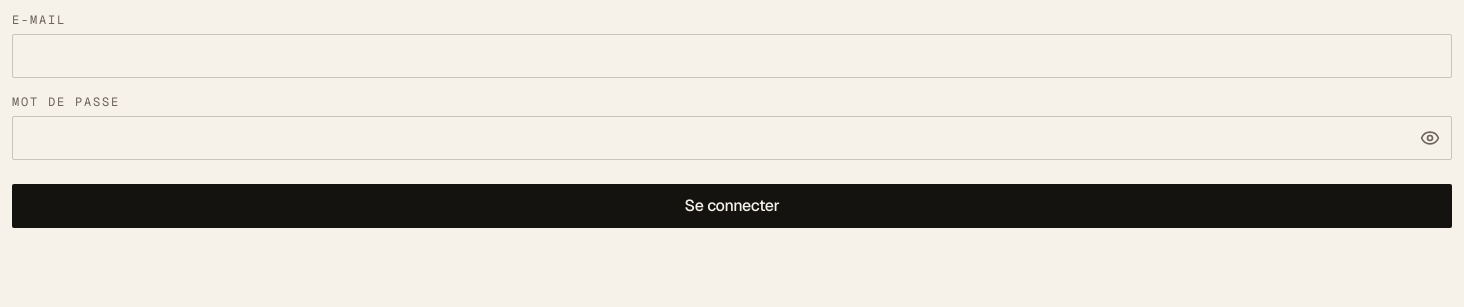
LoginForm › affiche une erreur sur identifiants invalides (401)
Type "bad@bamfa.org" into the field labelled "E-mail".
click(732, 56); type("bad@bamfa.org")  # box [12,34,1452,78]
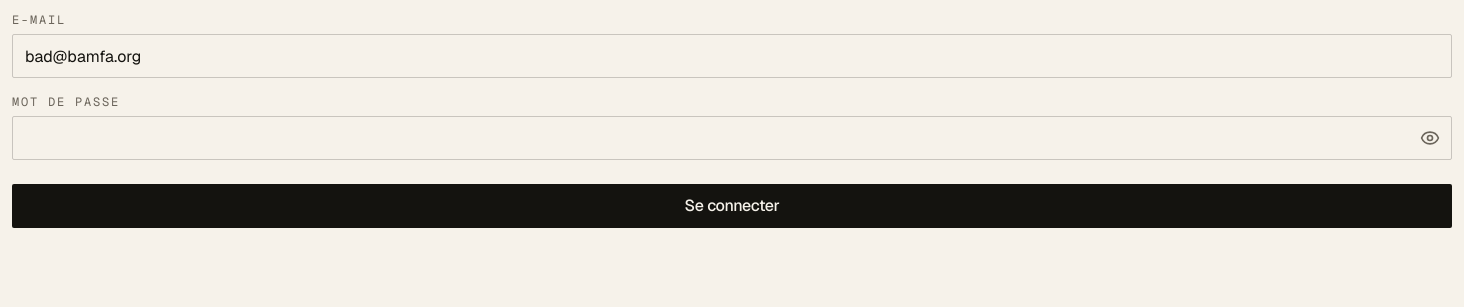
Type "wrong" into the password field labelled "Mot de passe".
click(732, 138); type("wrong")  # box [12,116,1452,160]
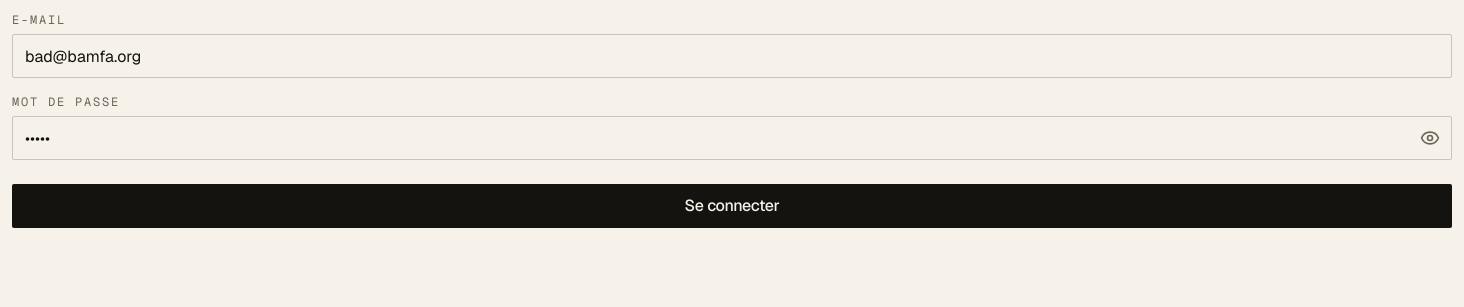
Click the button "Se connecter".
click(732, 206)  # box [12,184,1452,228]
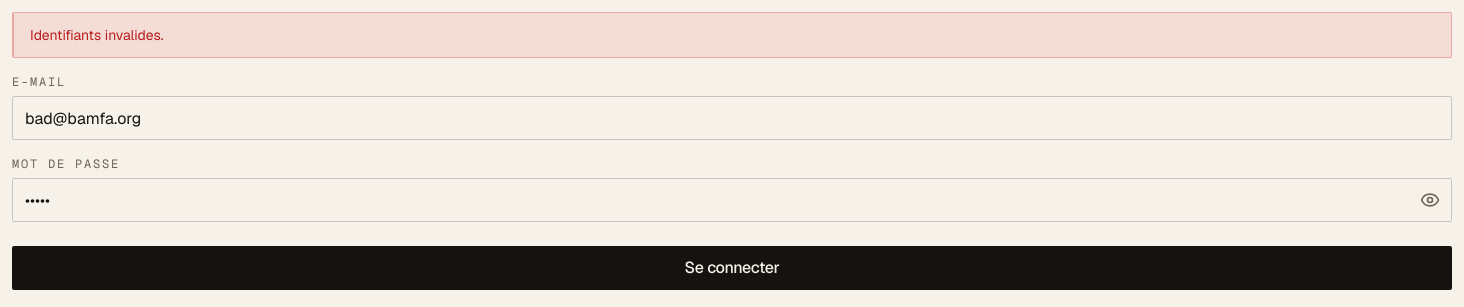
Expected: the text "Identifiants invalides." is shown, [12,12,1452,58]
